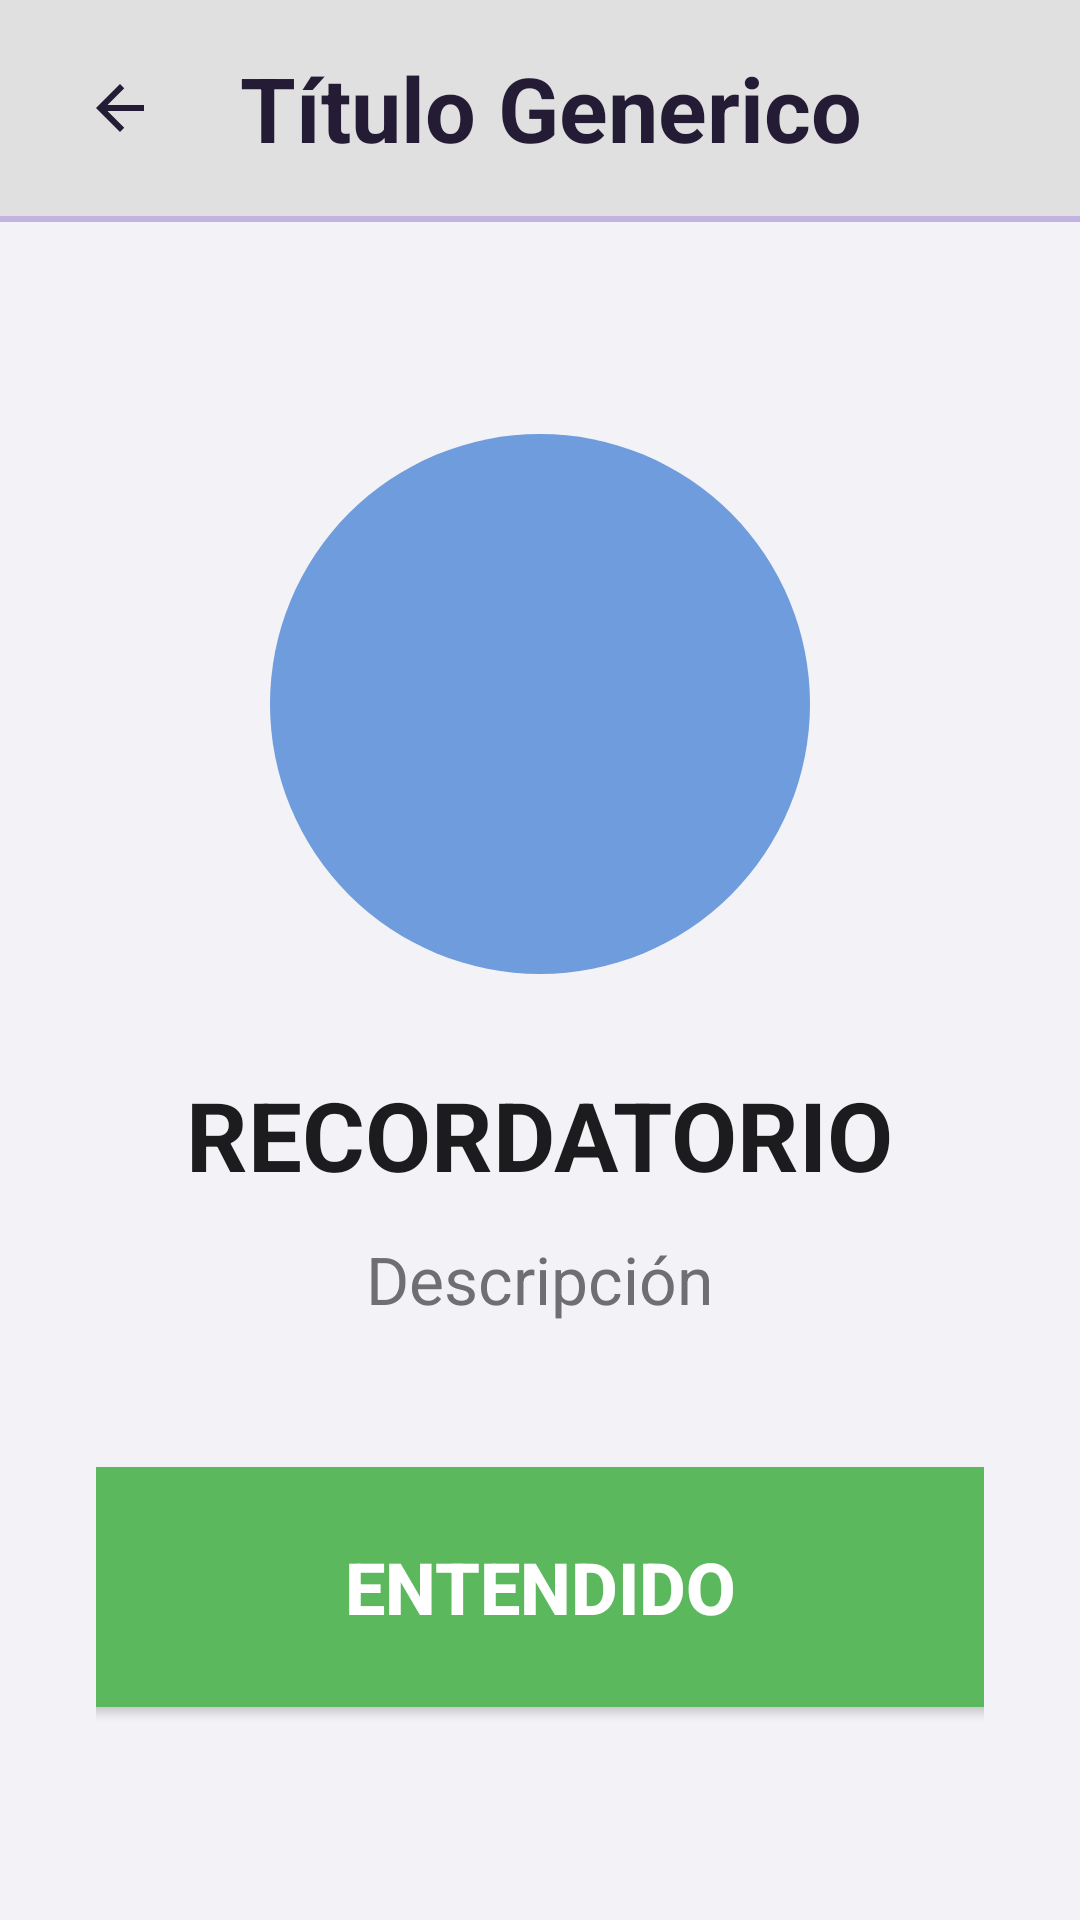

Icons on this 1080 × 1920 Android screen, each with its box as box=[x1, y1, x2, y2]:
Atrás: box=[96, 84, 144, 132]
